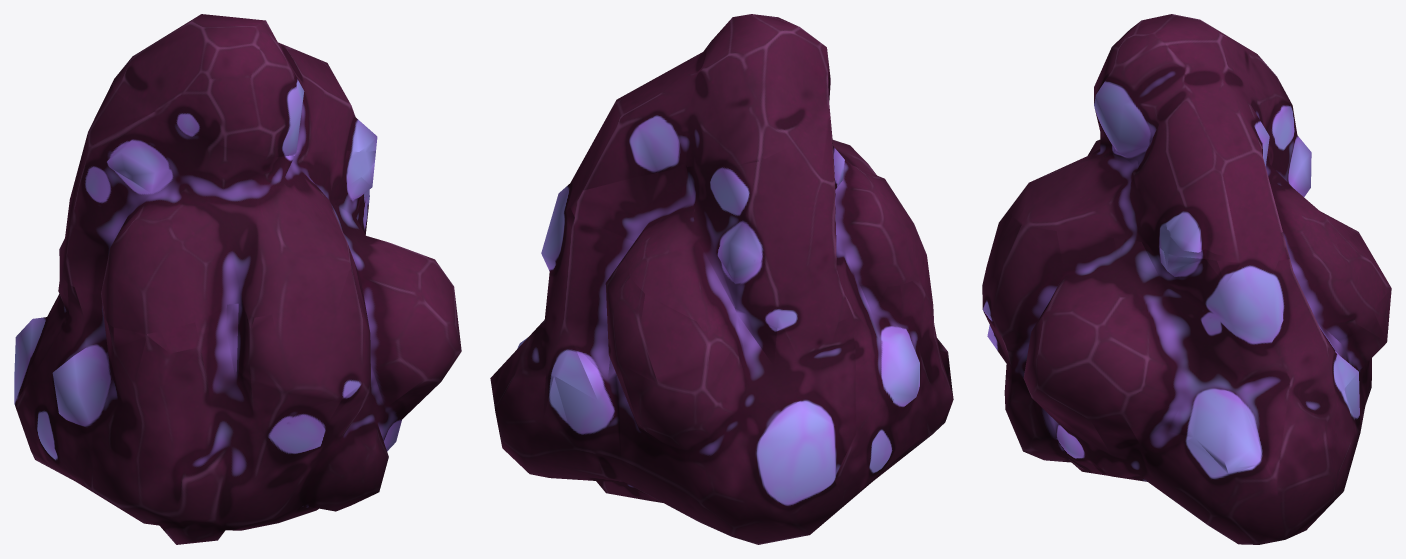
The model's file is MagmaBreakable.fbx.
3 views of the same model, side by side, from view 1: azimuth 30°, elevation 25°; view 2: azimuth 150°, elevation 25°; view 3: azimuth 270°, elevation 25° (orthographic). The views are drawn at different scales.
Visible parts, largest first — view 1: MagmaBreak_1, MagmaBreak_3, MagmaBreak_2, MagmaBreak_4; view 2: MagmaBreak_1, MagmaBreak_3, MagmaBreak_4, MagmaBreak_2; view 3: MagmaBreak_2, MagmaBreak_4, MagmaBreak_1, MagmaBreak_3.
Part boxes in pixels (x1=…): MagmaBreak_1: x1=14, y1=238, x2=429, y2=544; MagmaBreak_3: x1=61, y1=83, x2=375, y2=333; MagmaBreak_2: x1=58, y1=162, x2=461, y2=401; MagmaBreak_4: x1=112, y1=14, x2=377, y2=157; MagmaBreak_1: x1=490, y1=264, x2=953, y2=544; MagmaBreak_3: x1=570, y1=97, x2=926, y2=328; MagmaBreak_4: x1=573, y1=14, x2=830, y2=190; MagmaBreak_2: x1=499, y1=182, x2=927, y2=378; MagmaBreak_2: x1=982, y1=209, x2=1388, y2=468; MagmaBreak_4: x1=1094, y1=14, x2=1282, y2=258; MagmaBreak_1: x1=985, y1=276, x2=1391, y2=544; MagmaBreak_3: x1=1009, y1=81, x2=1351, y2=262.
Size of the model in its own units: 2.18 by 2.55 by 2.11.
1 material, 1 textured.
